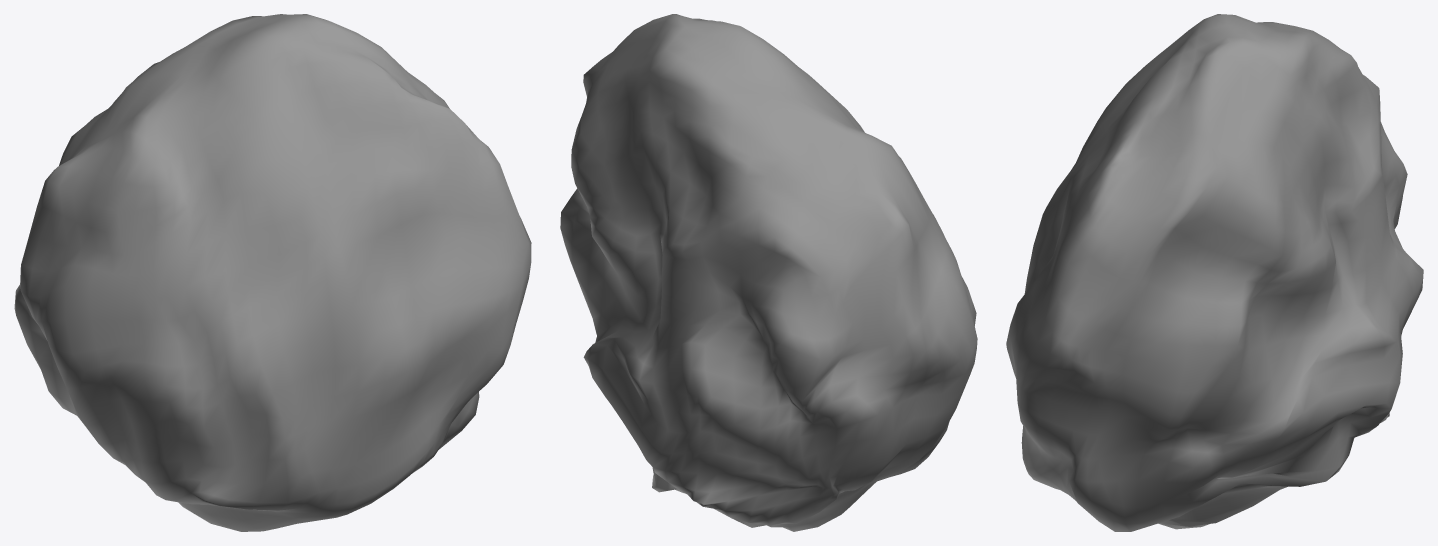
The model's file is asteroids3.fbx.
The picture shows the model from 3 angles, left to right: view 1: azimuth 30°, elevation 25°; view 2: azimuth 150°, elevation 25°; view 3: azimuth 270°, elevation 25°; orthographic projection. The views are drawn at different scales.
Parts seen in each view (by area): view 1: polySurface3; view 2: polySurface3; view 3: polySurface3.
Boxes of the visible parts, x1,y1,x2,y2 form: polySurface3: (14,14,531,531); polySurface3: (560,14,977,531); polySurface3: (1006,14,1423,531).
Bounding box in the file's own units: 3.21 × 3.57 × 2.59.
Materials: 1 (1 with a texture image).
